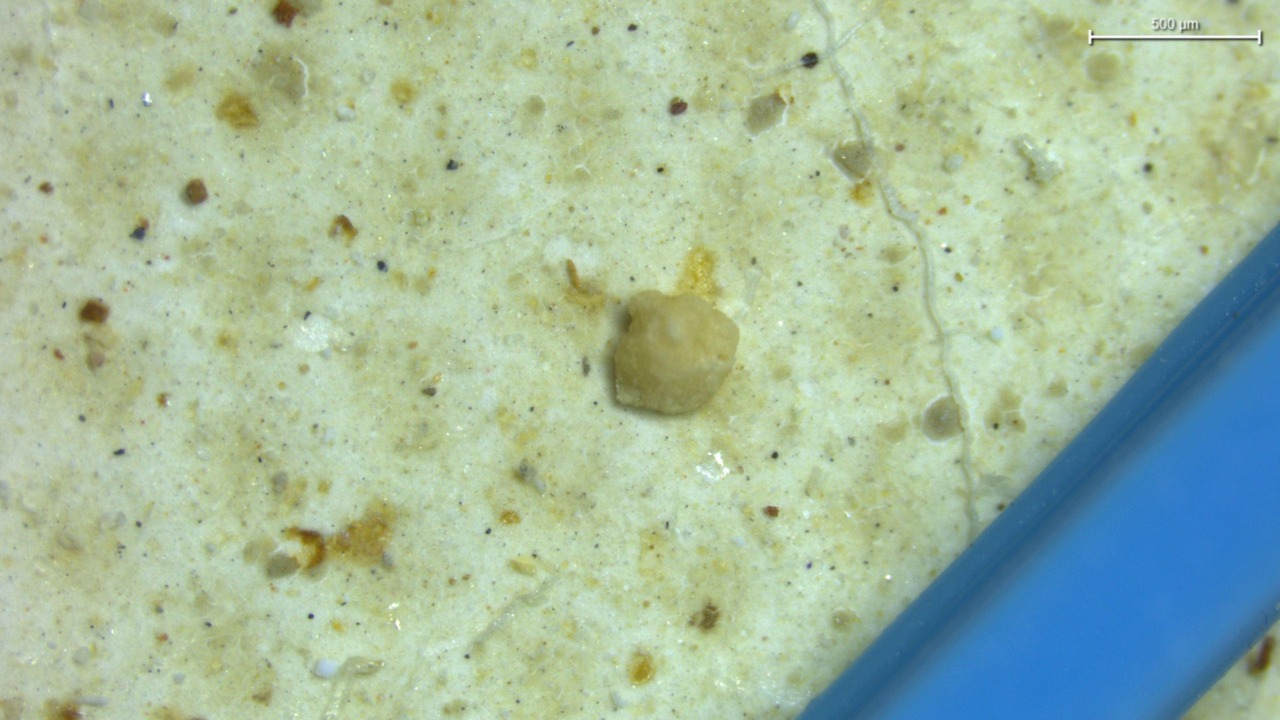microplastic_fragment: (613, 291, 739, 415), (1013, 135, 1063, 183)
